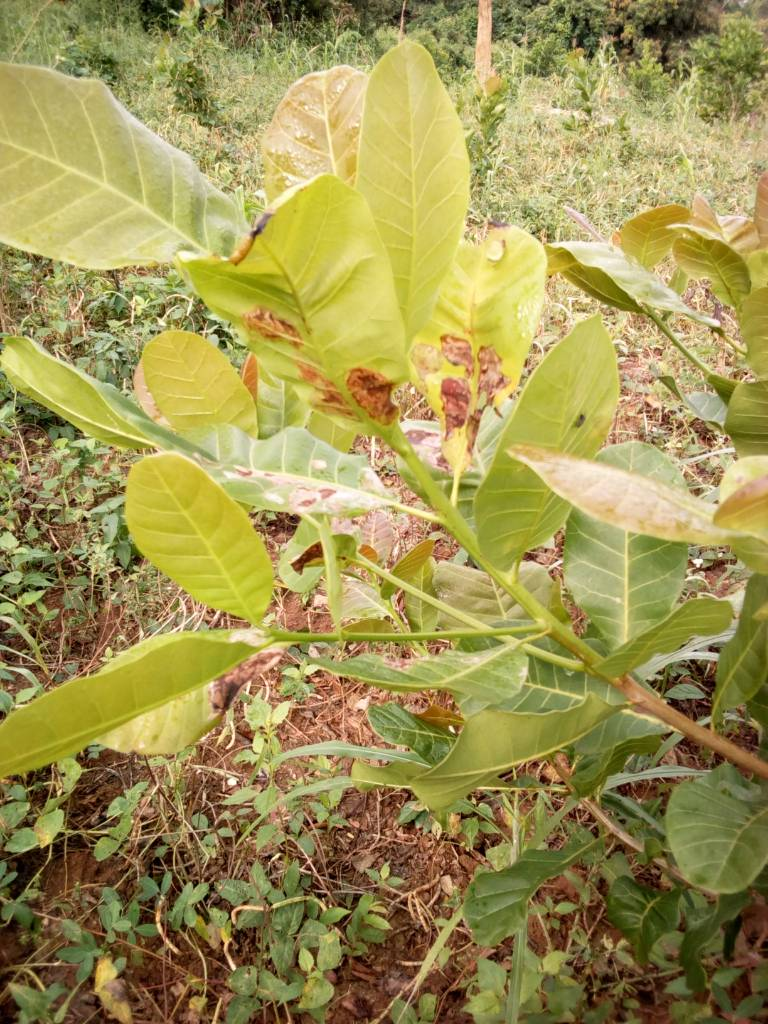Dysdercus wolkerii: (172, 154, 430, 466), (387, 168, 590, 473)
